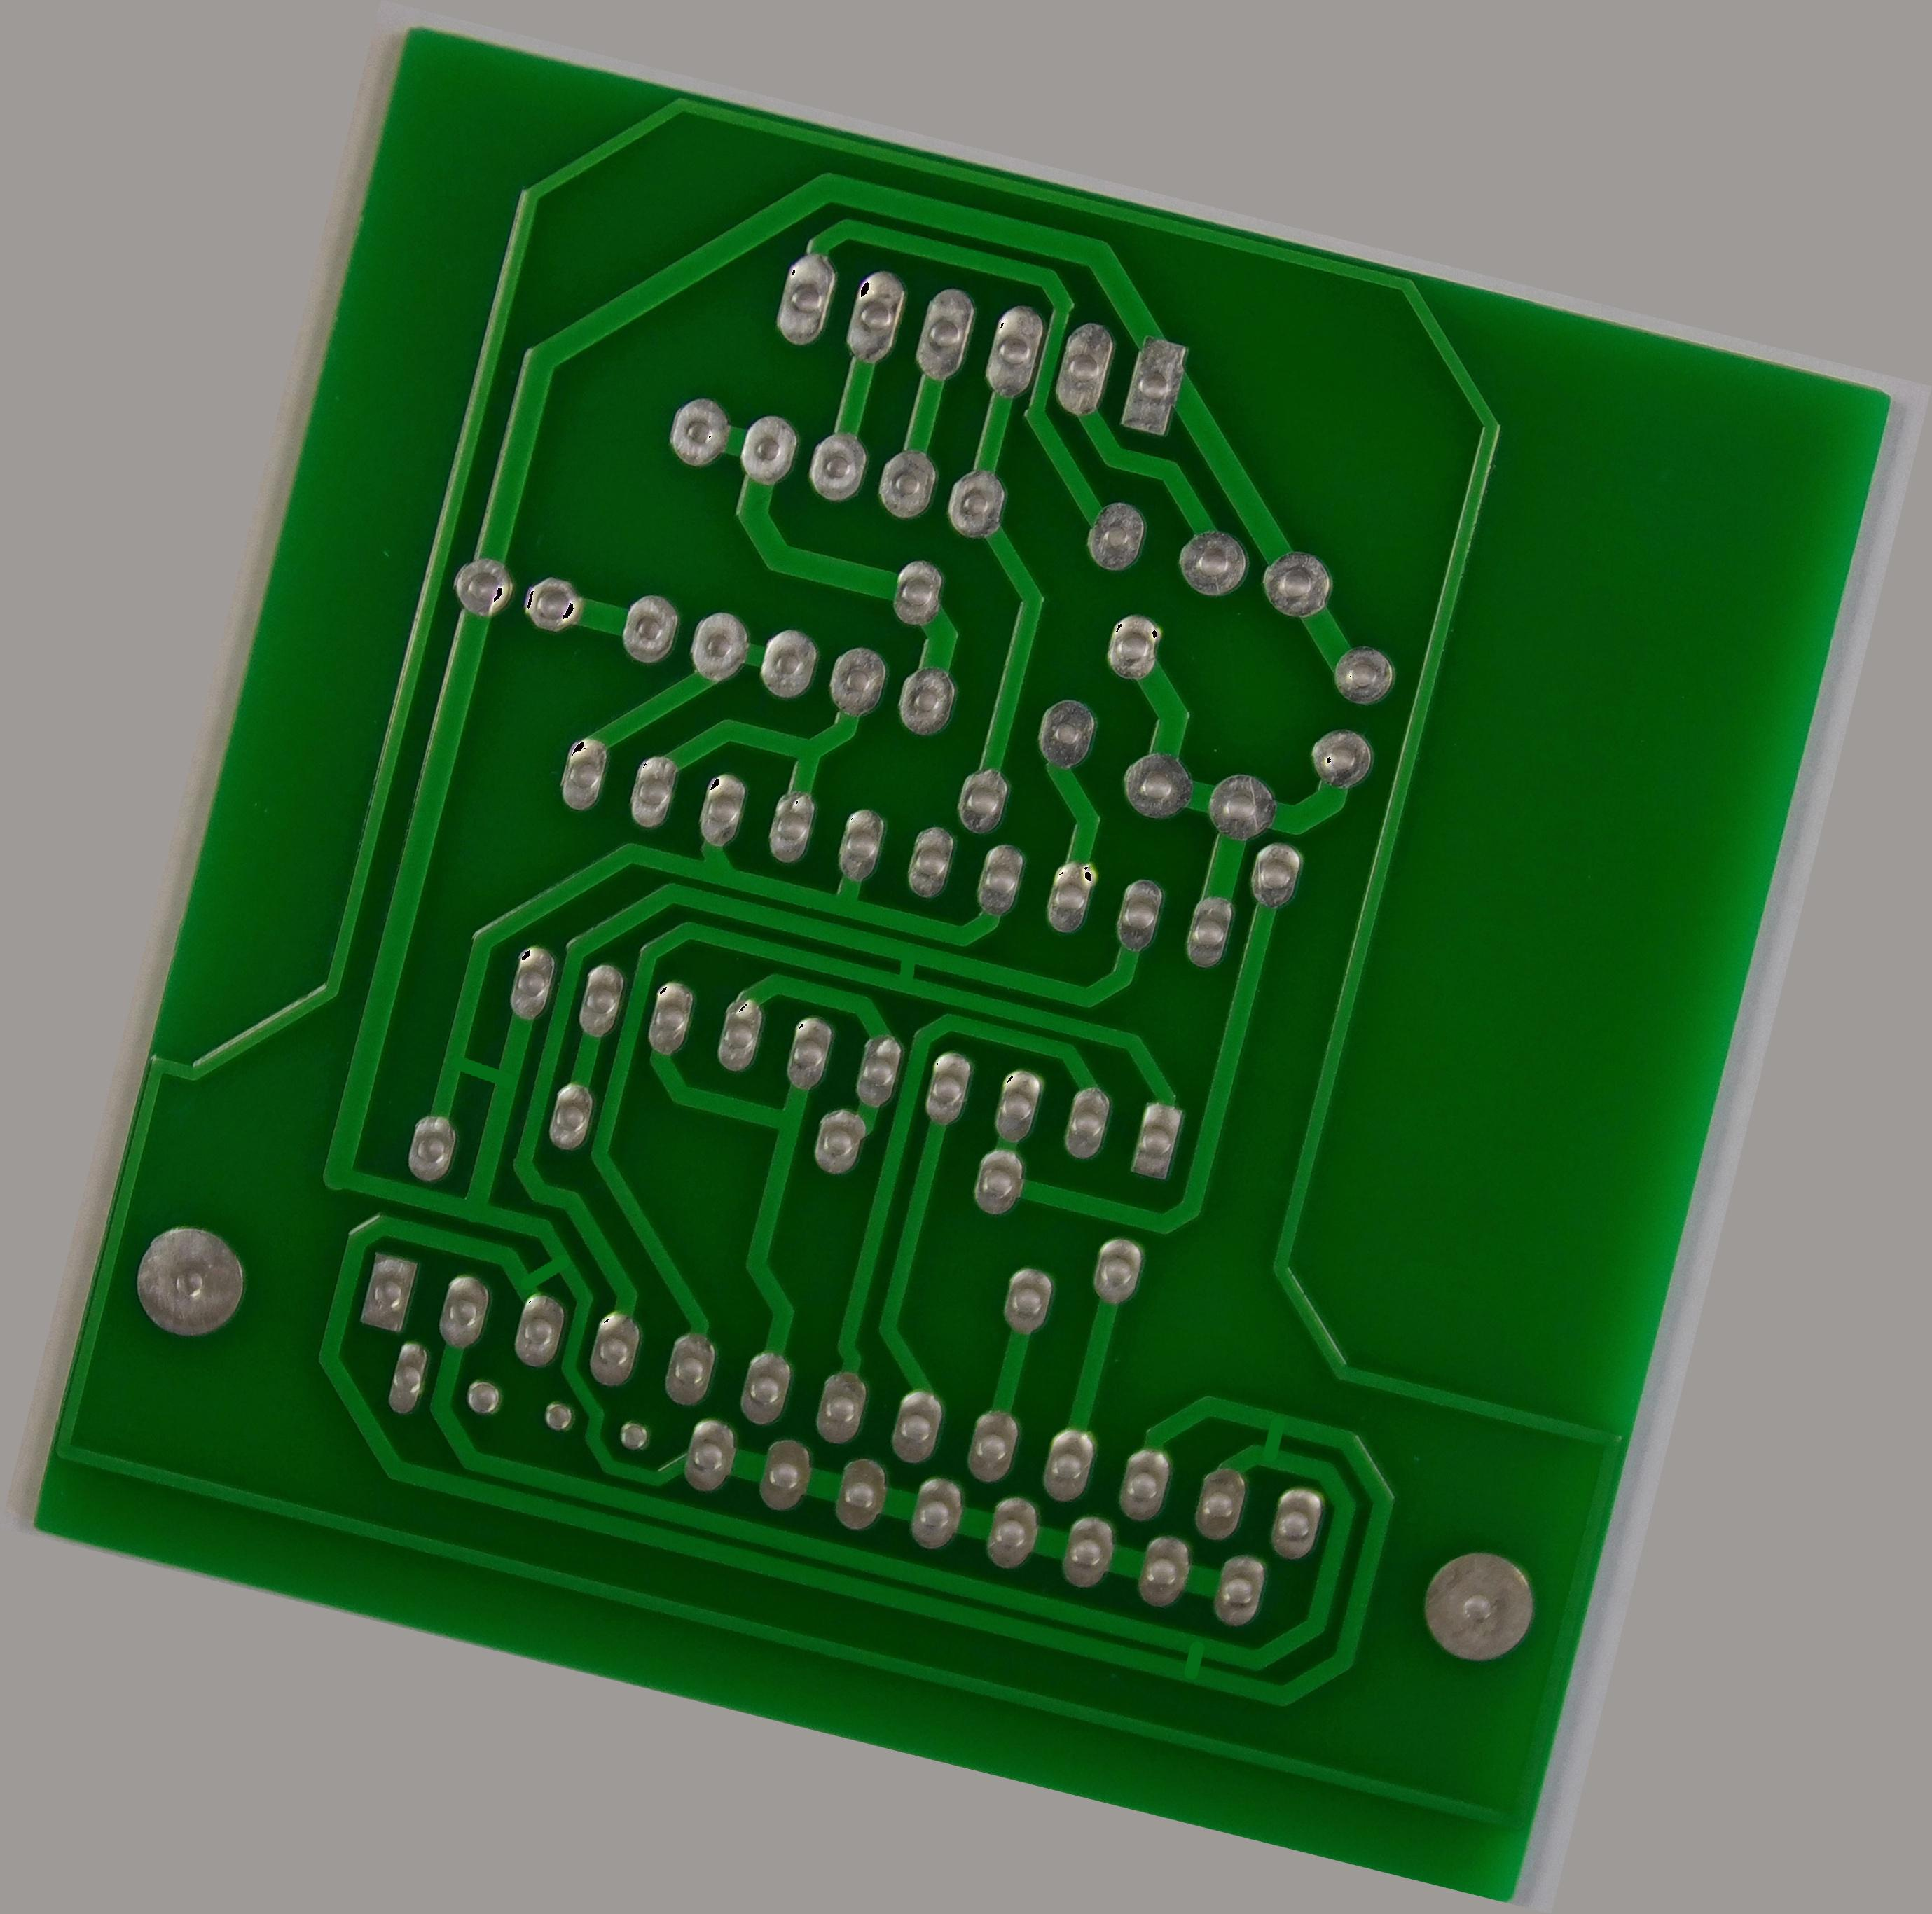short: (419, 1024, 533, 1116), (493, 1230, 584, 1313), (1238, 1395, 1304, 1481), (873, 929, 938, 1001), (1164, 1621, 1224, 1693)
